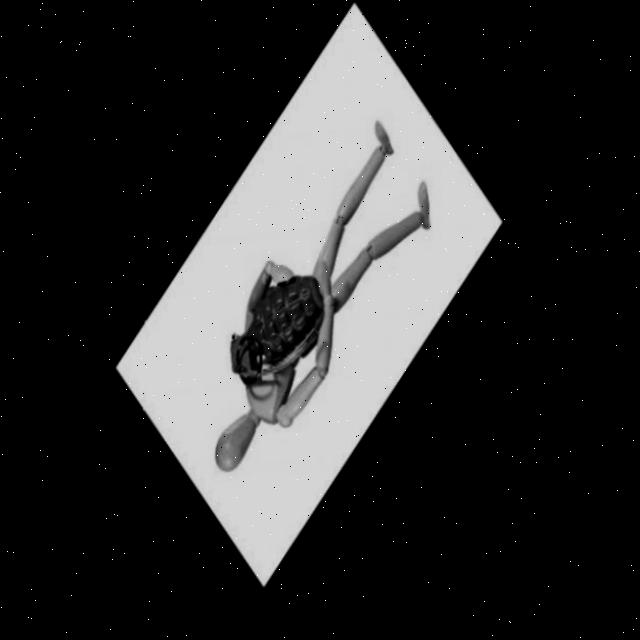grenade: (218, 275, 324, 393)
